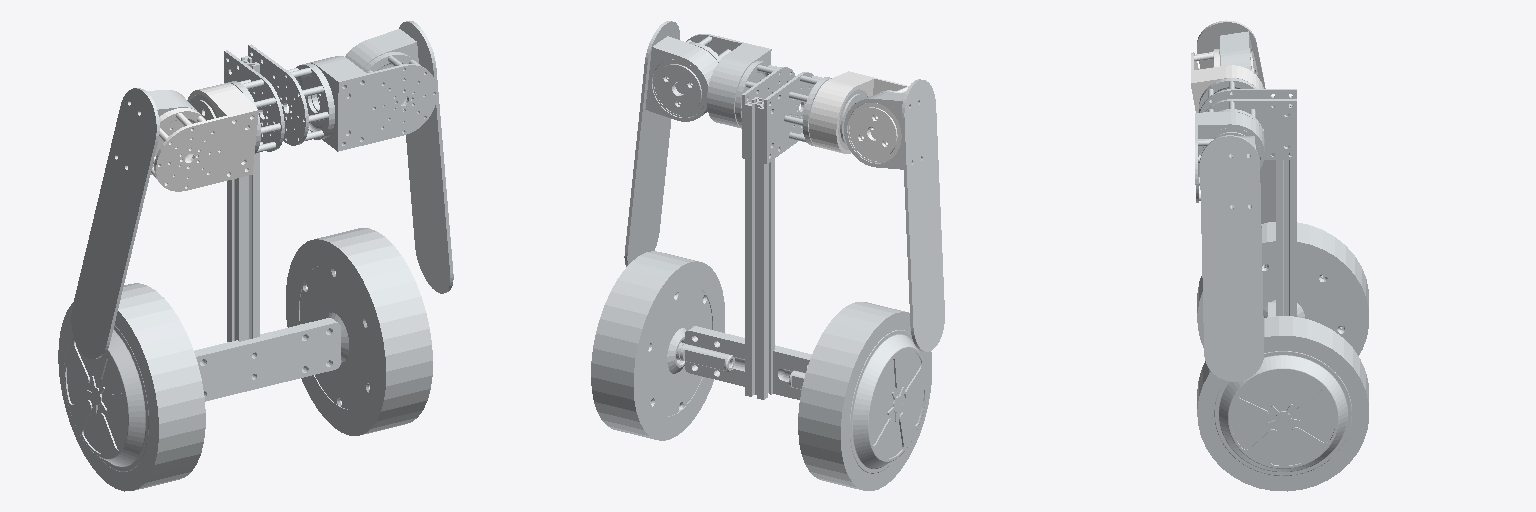
The robot description file, URDF, robot "RON":
<?xml version="1.0" encoding="utf-8"?>
<!-- This URDF was automatically created by SolidWorks to URDF Exporter! Originally created by [author] ([email redacted]) 
     Commit Version: 1.6.0-4-g7f85cfe  Build Version: 1.6.7995.38578
     For more information, please see http://wiki.ros.org/sw_urdf_exporter -->
<robot
  name="RON">
  <link
    name="base_link">
    <inertial>
      <origin
        xyz="-3.25154765148783E-17 -0.00947939432807307 -0.0502957336805078"
        rpy="0 0 0" />
      <mass
        value="2.84550967143739" />
      <inertia
        ixx="0.00424289058142404"
        ixy="-5.68559340029356E-08"
        ixz="-3.30336023062386E-07"
        iyy="0.00358374083667644"
        iyz="-1.10834503416664E-07"
        izz="0.00240980729030655" />
    </inertial>
    <visual>
      <origin
        xyz="0 0 0"
        rpy="0 0 0" />
      <geometry>
        <mesh
          filename="package://static/RON/meshes/base_link.STL" />
      </geometry>
      <material
        name="">
        <color
          rgba="0.898039215686275 0.917647058823529 0.929411764705882 1" />
      </material>
    </visual>
    <collision>
      <origin
        xyz="0 0 0"
        rpy="0 0 0" />
      <geometry>
        <mesh
          filename="package://static/RON/meshes/base_link.STL" />
      </geometry>
    </collision>
  </link>
  <link
    name="left_motor">
    <inertial>
      <origin
        xyz="1.249E-16 -0.022381 -1.6575E-15"
        rpy="0 0 0" />
      <mass
        value="1.2731" />
      <inertia
        ixx="0.0028507"
        ixy="4.9208E-18"
        ixz="-8.7678E-17"
        iyy="0.0052437"
        iyz="-1.7768E-17"
        izz="0.0028507" />
    </inertial>
    <visual>
      <origin
        xyz="0 0 0"
        rpy="0 0 0" />
      <geometry>
        <mesh
          filename="package://static/RON/meshes/left_motor.STL" />
      </geometry>
      <material
        name="">
        <color
          rgba="0.89804 0.91765 0.92941 1" />
      </material>
    </visual>
    <collision>
      <origin
        xyz="0 0 0"
        rpy="0 0 0" />
      <geometry>
        <mesh
          filename="package://static/RON/meshes/left_motor.STL" />
      </geometry>
    </collision>
  </link>
  <joint
    name="left_motor_joint"
    type="continuous">
    <origin
      xyz="0.0918 0 -0.105"
      rpy="0 -1.554 1.5708" />
    <parent
      link="base_link" />
    <child
      link="left_motor" />
    <axis
      xyz="0 1 0" />
    <limit
      lower="0"
      upper="0"
      effort="0"
      velocity="0" />
  </joint>
  <link
    name="right_motor">
    <inertial>
      <origin
        xyz="1.52655665885959E-16 -0.022380534740397 2.48195561325382E-15"
        rpy="0 0 0" />
      <mass
        value="1.27311863561262" />
      <inertia
        ixx="0.00285071508732584"
        ixy="4.91808161049018E-19"
        ixz="-9.987196074486E-17"
        iyy="0.00524367047203184"
        iyz="1.69220847597699E-17"
        izz="0.00285071508732583" />
    </inertial>
    <visual>
      <origin
        xyz="0 0 0"
        rpy="0 0 0" />
      <geometry>
        <mesh
          filename="package://static/RON/meshes/right_motor.STL" />
      </geometry>
      <material
        name="">
        <color
          rgba="0.898039215686275 0.917647058823529 0.929411764705882 1" />
      </material>
    </visual>
    <collision>
      <origin
        xyz="0 0 0"
        rpy="0 0 0" />
      <geometry>
        <mesh
          filename="package://static/RON/meshes/right_motor.STL" />
      </geometry>
    </collision>
  </link>
  <joint
    name="right_motor_joint"
    type="continuous">
    <origin
      xyz="-0.0918 0 -0.105"
      rpy="-3.1416 1.554 1.5708" />
    <parent
      link="base_link" />
    <child
      link="right_motor" />
    <axis
      xyz="0 1 0" />
    <limit
      lower="0"
      upper="0"
      effort="0"
      velocity="0" />
  </joint>
  <link
    name="arm_left_1">
    <inertial>
      <origin
        xyz="-0.00358400473639369 -1.11022302462516E-16 -0.0470762353128147"
        rpy="0 0 0" />
      <mass
        value="0.38358084568233" />
      <inertia
        ixx="0.000233096346638634"
        ixy="-3.60836035530332E-19"
        ixz="-3.53401370376615E-08"
        iyy="0.000155752908636126"
        iyz="-6.34033663302333E-20"
        izz="0.000191590913545276" />
    </inertial>
    <visual>
      <origin
        xyz="0 0 0"
        rpy="0 0 0" />
      <geometry>
        <mesh
          filename="package://static/RON/meshes/arm_left_1.STL" />
      </geometry>
      <material
        name="">
        <color
          rgba="0.898039215686275 0.917647058823529 0.929411764705882 1" />
      </material>
    </visual>
    <collision>
      <origin
        xyz="0 0 0"
        rpy="0 0 0" />
      <geometry>
        <mesh
          filename="package://static/RON/meshes/arm_left_1.STL" />
      </geometry>
    </collision>
  </link>
  <joint
    name="arm_left_joint_1"
    type="revolute">
    <origin
      xyz="0.040425 -0.0515 0.15"
      rpy="-1.5708 -0.021345 1.5708" />
    <parent
      link="base_link" />
    <child
      link="arm_left_1" />
    <axis
      xyz="0 0 1" />
    <limit
      lower="-3.1416"
      upper="3.1416"
      effort="0"
      velocity="0" />
  </joint>
  <link
    name="arm_left_2">
    <inertial>
      <origin
        xyz="-0.0149997196369248 0.0234113964166067 -0.00586526503174084"
        rpy="0 0 0" />
      <mass
        value="0.164890731587788" />
      <inertia
        ixx="0.000321582623179118"
        ixy="-7.87141555387858E-19"
        ixz="-3.53401370377376E-08"
        iyy="7.53415944547956E-05"
        iyz="1.66341202187931E-07"
        izz="0.000355987935690088" />
    </inertial>
    <visual>
      <origin
        xyz="0 0 0"
        rpy="0 0 0" />
      <geometry>
        <mesh
          filename="package://static/RON/meshes/arm_left_2.STL" />
      </geometry>
      <material
        name="">
        <color
          rgba="0.898039215686275 0.917647058823529 0.929411764705882 1" />
      </material>
    </visual>
    <collision>
      <origin
        xyz="0 0 0"
        rpy="0 0 0" />
      <geometry>
        <mesh
          filename="package://static/RON/meshes/arm_left_2.STL" />
      </geometry>
    </collision>
  </link>
  <joint
    name="arm_left_joint_2"
    type="revolute">
    <origin
      xyz="0 0 -0.0650000000000007"
      rpy="-1.57079632679491 -1.47492735456009 1.57079632679491" />
    <parent
      link="arm_left_1" />
    <child
      link="arm_left_2" />
    <axis
      xyz="0 0 1" />
    <limit
      lower="-3.1416"
      upper="3.1416"
      effort="0"
      velocity="0" />
  </joint>
  <link
    name="arm_right_1">
    <inertial>
      <origin
        xyz="0 0 0"
        rpy="0 0 0" />
      <mass
        value="0" />
      <inertia
        ixx="0"
        ixy="0"
        ixz="0"
        iyy="0"
        iyz="0"
        izz="0" />
    </inertial>
    <visual>
      <origin
        xyz="0 0 0"
        rpy="0 0 0" />
      <geometry>
        <mesh
          filename="package://static/RON/meshes/arm_right_1.STL" />
      </geometry>
      <material
        name="">
        <color
          rgba="1 1 1 1" />
      </material>
    </visual>
    <collision>
      <origin
        xyz="0 0 0"
        rpy="0 0 0" />
      <geometry>
        <mesh
          filename="package://static/RON/meshes/arm_right_1.STL" />
      </geometry>
    </collision>
  </link>
  <joint
    name="arm_right_joint_1"
    type="revolute">
    <origin
      xyz="-0.0404250000000002 -0.0514999999999999 0.15"
      rpy="-1.5707963267949 -0.16527975599906 1.5707963267949" />
    <parent
      link="base_link" />
    <child
      link="arm_right_1" />
    <axis
      xyz="0 0 1" />
    <limit
      lower="-3.1416"
      upper="3.1416"
      effort="0"
      velocity="0" />
  </joint>
  <link
    name="arm_right_2">
    <inertial>
      <origin
        xyz="-0.0149997196369248 0.0234113964166061 0.00592463828128127"
        rpy="0 0 0" />
      <mass
        value="0.164890731587788" />
      <inertia
        ixx="0.000321582623179119"
        ixy="6.94302318952509E-20"
        ixz="-3.53401370376605E-08"
        iyy="7.53415944547957E-05"
        iyz="-1.66341202183241E-07"
        izz="0.000355987935690089" />
    </inertial>
    <visual>
      <origin
        xyz="0 0 0"
        rpy="0 0 0" />
      <geometry>
        <mesh
          filename="package://static/RON/meshes/arm_right_2.STL" />
      </geometry>
      <material
        name="">
        <color
          rgba="0.898039215686275 0.917647058823529 0.929411764705882 1" />
      </material>
    </visual>
    <collision>
      <origin
        xyz="0 0 0"
        rpy="0 0 0" />
      <geometry>
        <mesh
          filename="package://static/RON/meshes/arm_right_2.STL" />
      </geometry>
    </collision>
  </link>
  <joint
    name="arm_right_joint_2"
    type="revolute">
    <origin
      xyz="0 0 0.0650000000000002"
      rpy="1.5707963267949 1.42814481894189 1.5707963267949" />
    <parent
      link="arm_right_1" />
    <child
      link="arm_right_2" />
    <axis
      xyz="0 0 1" />
    <limit
      lower="-3.1416"
      upper="3.1416"
      effort="0"
      velocity="0" />
  </joint>
</robot>

--- Facts derived from the render (not from the file) ---
3 views of the same robot in one strip: view 1: azimuth 30°, elevation 25°; view 2: azimuth 150°, elevation 25°; view 3: azimuth 270°, elevation 25° (orthographic).
Robot: RON — 7 links, 6 joints (4 revolute, 2 continuous); root link base_link; default pose: every joint at zero.
Links seen in each view (by area): view 1: left_motor, right_motor, base_link, arm_right_2, arm_left_1, arm_right_1, arm_left_2; view 2: right_motor, base_link, left_motor, arm_right_2, arm_left_2, arm_left_1, arm_right_1; view 3: left_motor, arm_left_2, right_motor, base_link, arm_right_2, arm_left_1, arm_right_1.
Boxes of the visible links, <box> form: left_motor: <box>286,228,432,435</box>; right_motor: <box>58,283,205,491</box>; base_link: <box>190,44,340,401</box>; arm_right_2: <box>71,88,197,358</box>; arm_left_1: <box>310,52,437,151</box>; arm_right_1: <box>151,83,258,191</box>; arm_left_2: <box>345,21,453,293</box>; right_motor: <box>798,302,931,490</box>; base_link: <box>676,61,867,399</box>; left_motor: <box>591,251,724,440</box>; arm_right_2: <box>844,79,944,351</box>; arm_left_2: <box>624,21,717,266</box>; arm_left_1: <box>652,34,771,128</box>; arm_right_1: <box>809,71,908,162</box>; left_motor: <box>1197,316,1368,491</box>; arm_left_2: <box>1200,135,1263,381</box>; right_motor: <box>1197,222,1368,355</box>; base_link: <box>1199,78,1296,316</box>; arm_right_2: <box>1197,20,1275,223</box>; arm_left_1: <box>1195,112,1264,202</box>; arm_right_1: <box>1191,48,1263,112</box>.
Bounding box of the posed robot: 0.3331 × 0.1786 × 0.3931 m (x, y, z).
7 mesh visuals loaded from 7 distinct referenced files (7 binary STL).
